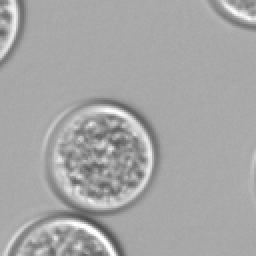picoshell: (44, 100, 156, 212), (10, 214, 120, 254), (208, 0, 254, 28)
